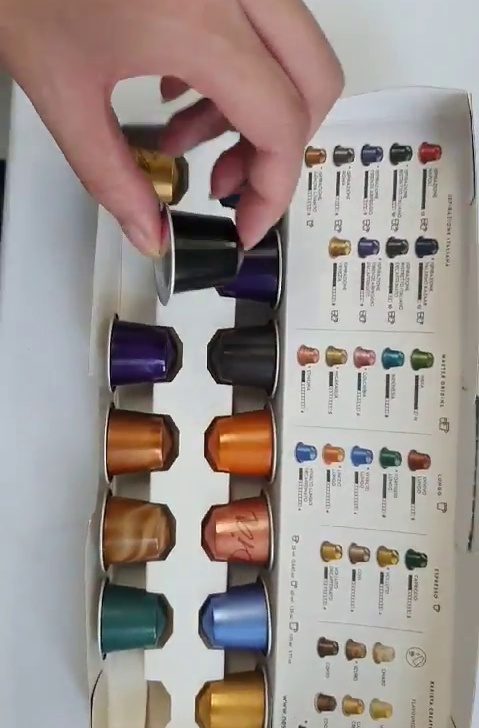capsule_10: (147, 201, 243, 305)
